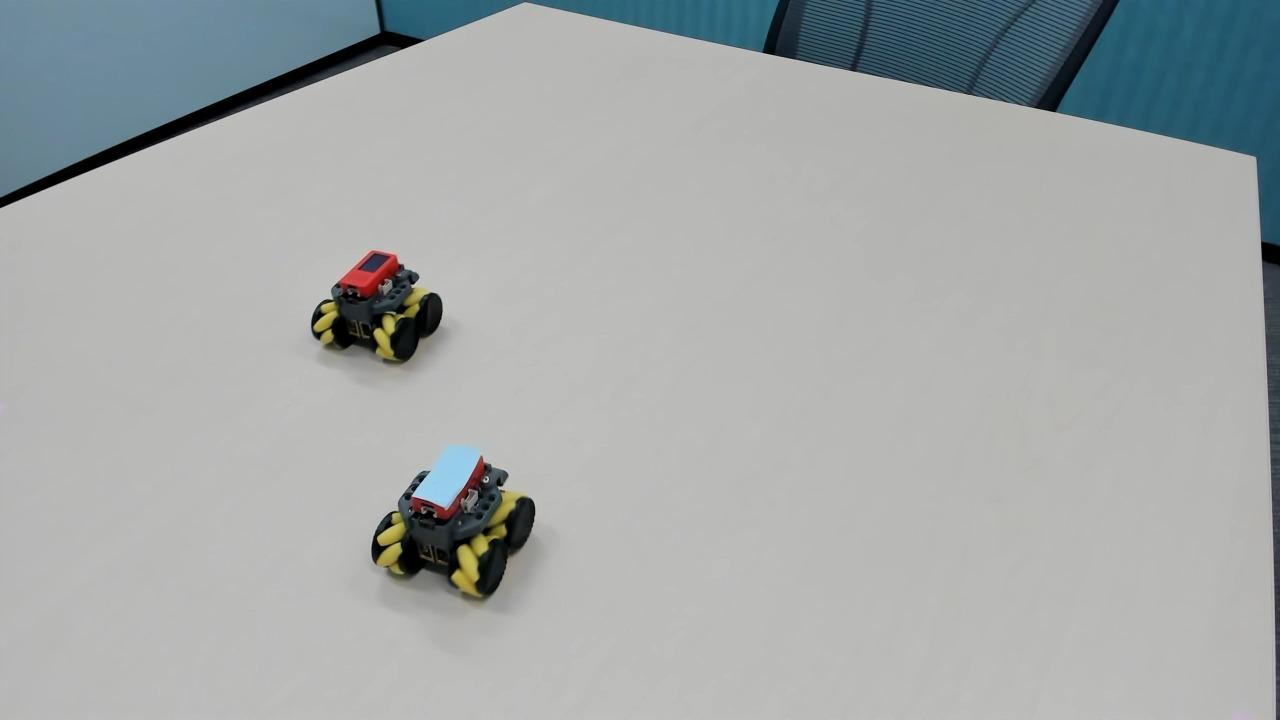B-Robot: (364, 438, 539, 619)
R-Robot: (286, 226, 459, 380)
